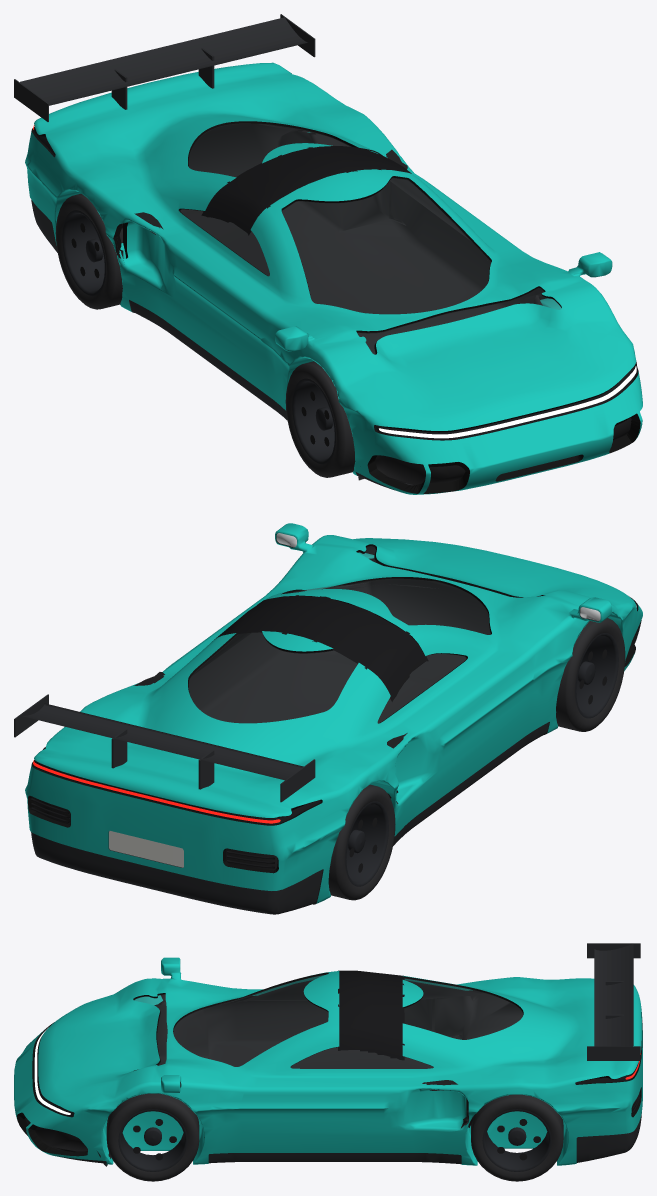
The model's file is arcline-vanta.glb.
3 views of the same model, one above another, from view 1: azimuth 30°, elevation 25°; view 2: azimuth 150°, elevation 25°; view 3: azimuth 270°, elevation 25° (orthographic). The views are drawn at different scales.
Visible parts, largest first — view 1: Body_LOD1, Cabin_LOD1, Glass_LOD1, Wing_LOD1, Gloss_LOD1, Wheel_FR_LOD1, Walls_LOD1, Wheel_RR_LOD1, Grille_LOD1, Carbon_LOD1, HeadlightLens_LOD1; view 2: Body_LOD1, Glass_LOD1, Cabin_LOD1, Gloss_LOD1, Carbon_LOD1, Wing_LOD1, Wheel_FR_LOD1, Wheel_RR_LOD1, Walls_LOD1, Plate_LOD1, Grille_LOD1, TaillightLens_LOD1 (+1 smaller); view 3: Body_LOD1, Glass_LOD1, Cabin_LOD1, Gloss_LOD1, Wheel_RL_LOD1, Wheel_FL_LOD1, Wing_LOD1, Carbon_LOD1, Walls_LOD1, Grille_LOD1, HeadlightLens_LOD1.
Part boxes in pixels (x1=…): Body_LOD1: x1=25, y1=62, x2=642, y2=494; Cabin_LOD1: x1=180, y1=124, x2=546, y2=354; Glass_LOD1: x1=180, y1=123, x2=561, y2=354; Wing_LOD1: x1=14, y1=14, x2=315, y2=121; Gloss_LOD1: x1=34, y1=128, x2=635, y2=440; Wheel_FR_LOD1: x1=285, y1=361, x2=355, y2=477; Walls_LOD1: x1=31, y1=73, x2=640, y2=493; Wheel_RR_LOD1: x1=55, y1=193, x2=122, y2=309; Grille_LOD1: x1=116, y1=149, x2=631, y2=485; Carbon_LOD1: x1=31, y1=199, x2=413, y2=490; HeadlightLens_LOD1: x1=379, y1=366, x2=636, y2=438; Body_LOD1: x1=25, y1=523, x2=642, y2=903; Glass_LOD1: x1=189, y1=546, x2=490, y2=723; Cabin_LOD1: x1=189, y1=558, x2=490, y2=723; Gloss_LOD1: x1=35, y1=546, x2=428, y2=824; Carbon_LOD1: x1=31, y1=722, x2=549, y2=914; Wing_LOD1: x1=14, y1=694, x2=315, y2=802; Wheel_FR_LOD1: x1=556, y1=618, x2=625, y2=731; Wheel_RR_LOD1: x1=328, y1=784, x2=395, y2=900; Walls_LOD1: x1=28, y1=534, x2=641, y2=904; Plate_LOD1: x1=109, y1=831, x2=183, y2=867; Grille_LOD1: x1=34, y1=672, x2=407, y2=870; TaillightLens_LOD1: x1=33, y1=760, x2=280, y2=823; Body_LOD1: x1=14, y1=957, x2=642, y2=1165; Glass_LOD1: x1=135, y1=975, x2=522, y2=1068; Cabin_LOD1: x1=154, y1=980, x2=523, y2=1068; Gloss_LOD1: x1=34, y1=970, x2=637, y2=1116; Wheel_RL_LOD1: x1=471, y1=1094, x2=563, y2=1181; Wheel_FL_LOD1: x1=106, y1=1093, x2=199, y2=1181; Wing_LOD1: x1=587, y1=943, x2=640, y2=1060; Carbon_LOD1: x1=57, y1=1112, x2=641, y2=1164; Walls_LOD1: x1=16, y1=972, x2=642, y2=1156; Grille_LOD1: x1=25, y1=990, x2=634, y2=1166; HeadlightLens_LOD1: x1=34, y1=1028, x2=70, y2=1114.
Bounding box in the file's own units: 2.27 × 1.19 × 4.75.
